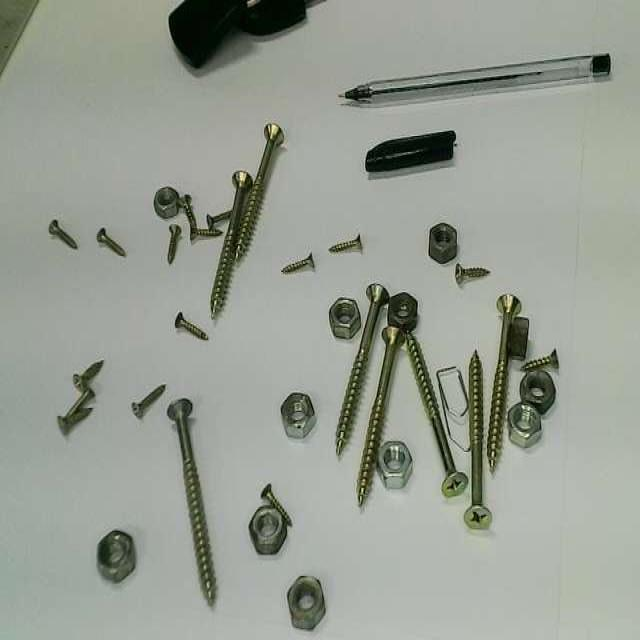Parafuso: (405, 331, 467, 497), (167, 399, 214, 605), (336, 283, 388, 457), (357, 326, 404, 506), (235, 123, 283, 262), (210, 171, 252, 318), (487, 294, 520, 471), (464, 351, 491, 529), (58, 388, 94, 433), (261, 483, 291, 526), (131, 384, 165, 418), (73, 360, 103, 390), (58, 408, 92, 434), (175, 312, 207, 339), (521, 348, 558, 371), (49, 219, 77, 249), (181, 194, 198, 242), (97, 228, 125, 257), (455, 263, 489, 285), (281, 252, 314, 273), (329, 235, 361, 253), (167, 224, 180, 263), (190, 228, 222, 243), (207, 210, 231, 226)
Porca: (287, 576, 325, 630), (97, 530, 134, 582), (249, 506, 287, 554), (378, 442, 412, 489), (281, 392, 315, 438), (520, 371, 555, 415), (508, 403, 542, 447), (329, 298, 360, 338), (428, 223, 457, 263), (388, 292, 417, 331), (154, 187, 179, 218)
